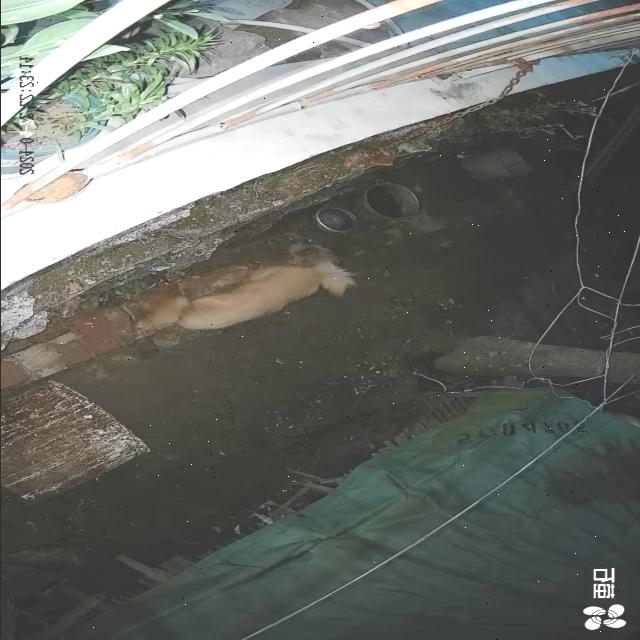dog: (131, 259, 359, 333)
